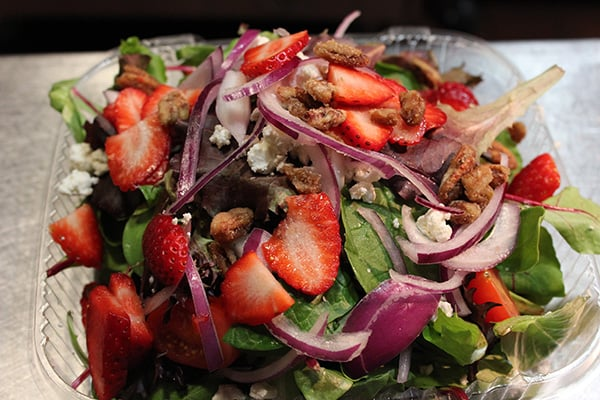curry: (18, 15, 598, 396)
